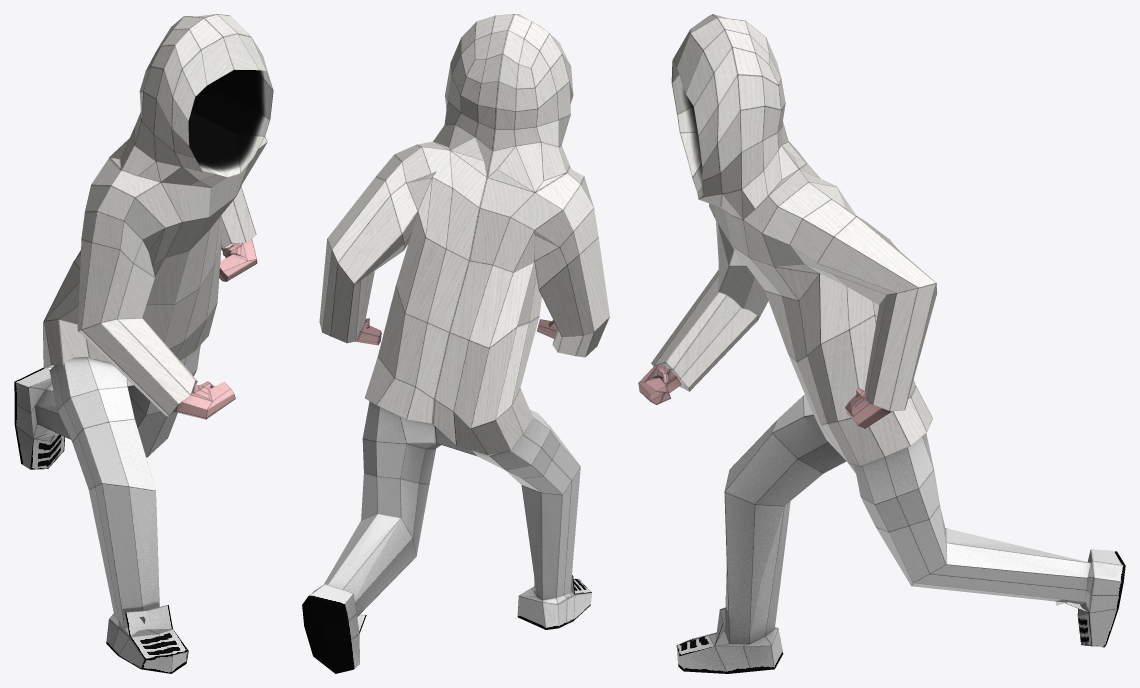
Rendered from Shadowmanv_000007.obj.
The picture shows the model from 3 angles, left to right: view 1: azimuth 30°, elevation 25°; view 2: azimuth 150°, elevation 25°; view 3: azimuth 270°, elevation 25°; orthographic projection. The views are drawn at different scales.
Visible parts, largest first — view 1: Cube.000; view 2: Cube.000; view 3: Cube.000.
Part boxes in pixels (box(x1,y1,x2,y2)): Cube.000: box(14, 14, 273, 673); Cube.000: box(302, 14, 609, 673); Cube.000: box(638, 14, 1125, 673).
Bounding box in the file's own units: 4.36 × 10.84 × 7.08.
